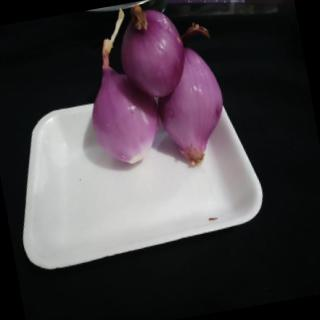Bawang Merah: (78, 30, 168, 171), (110, 1, 193, 105)
